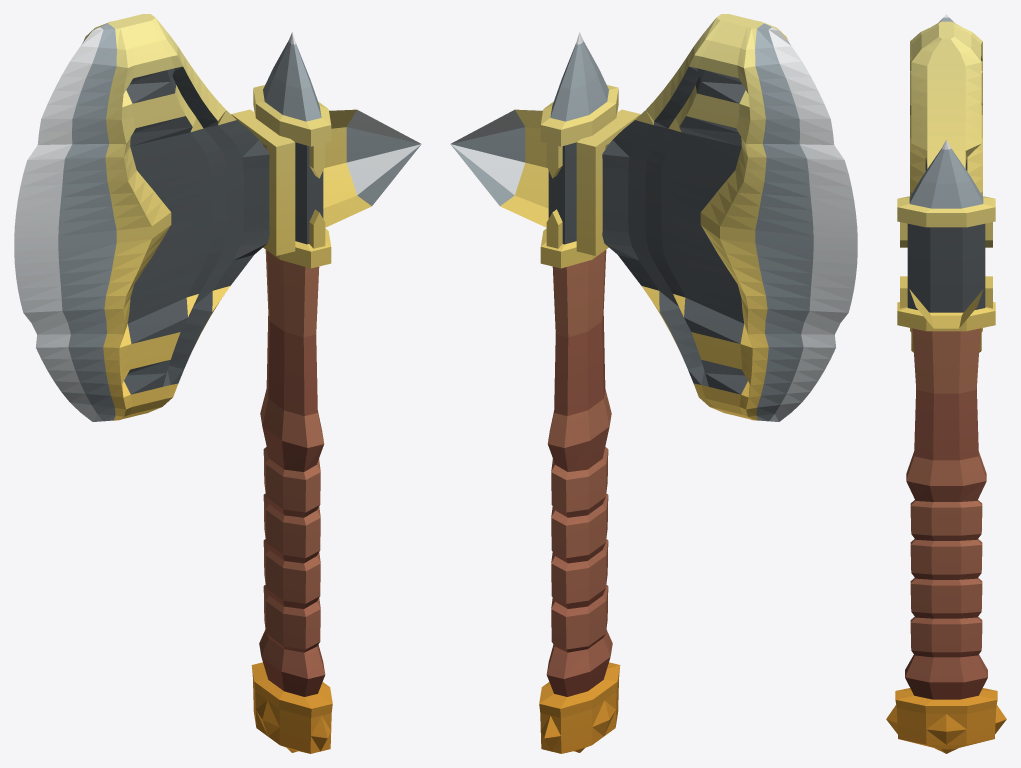
File: source.glb
3 views of the same model, side by side, from view 1: azimuth 30°, elevation 25°; view 2: azimuth 150°, elevation 25°; view 3: azimuth 270°, elevation 25° (orthographic). The views are drawn at different scales.
Parts seen in each view (by area): view 1: model; view 2: model; view 3: model.
Boxes of the visible parts, bbox=[...] form: model: bbox=[14, 14, 421, 753]; model: bbox=[450, 14, 857, 753]; model: bbox=[886, 14, 1006, 753].
Bounding box in the file's own units: 0.73 × 1.32 × 0.22.
Materials: 1 (1 with a texture image).
